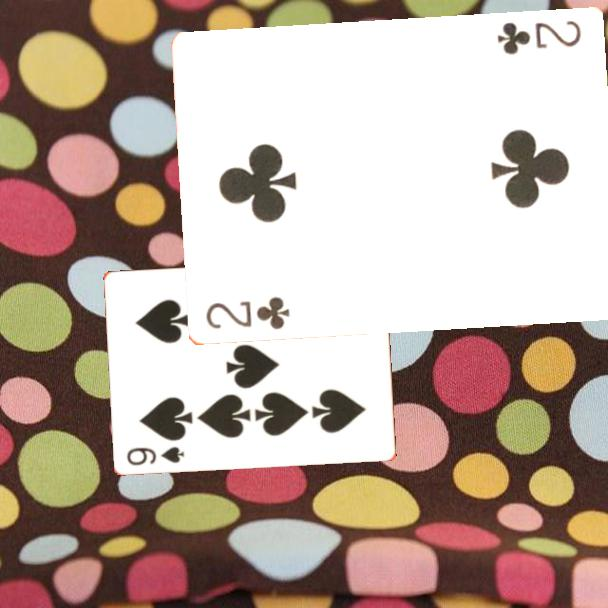c02: (493, 17, 584, 58), (202, 293, 292, 333)
s09: (124, 443, 187, 468)
